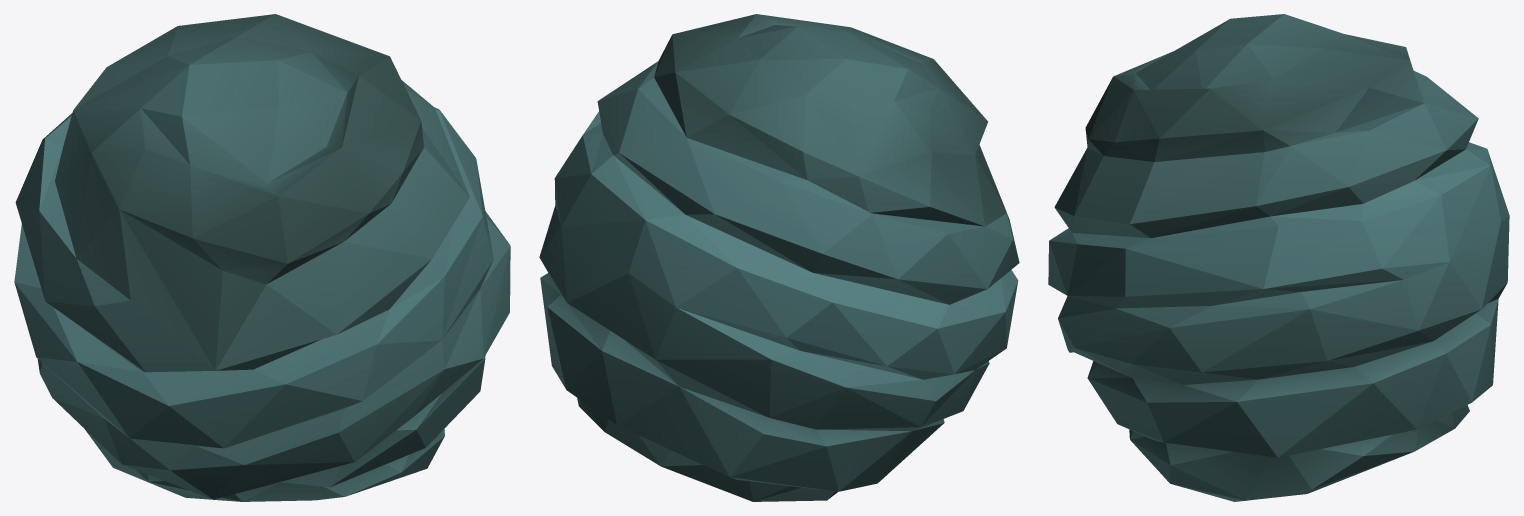
The model's file is SM_Nature_Planet_02.fbx.
3 renders of one model, left to right at view 1: azimuth 30°, elevation 25°; view 2: azimuth 150°, elevation 25°; view 3: azimuth 270°, elevation 25°, orthographic. The views are drawn at different scales.
Parts seen in each view (by area): view 1: SM_Nature_Planet_02; view 2: SM_Nature_Planet_02; view 3: SM_Nature_Planet_02.
Boxes of the visible parts, x1,y1,x2,y2 form: SM_Nature_Planet_02: [14, 14, 510, 501]; SM_Nature_Planet_02: [539, 14, 1019, 501]; SM_Nature_Planet_02: [1048, 14, 1509, 501].
Bounding box in the file's own units: 4.82 × 4.89 × 4.78.
